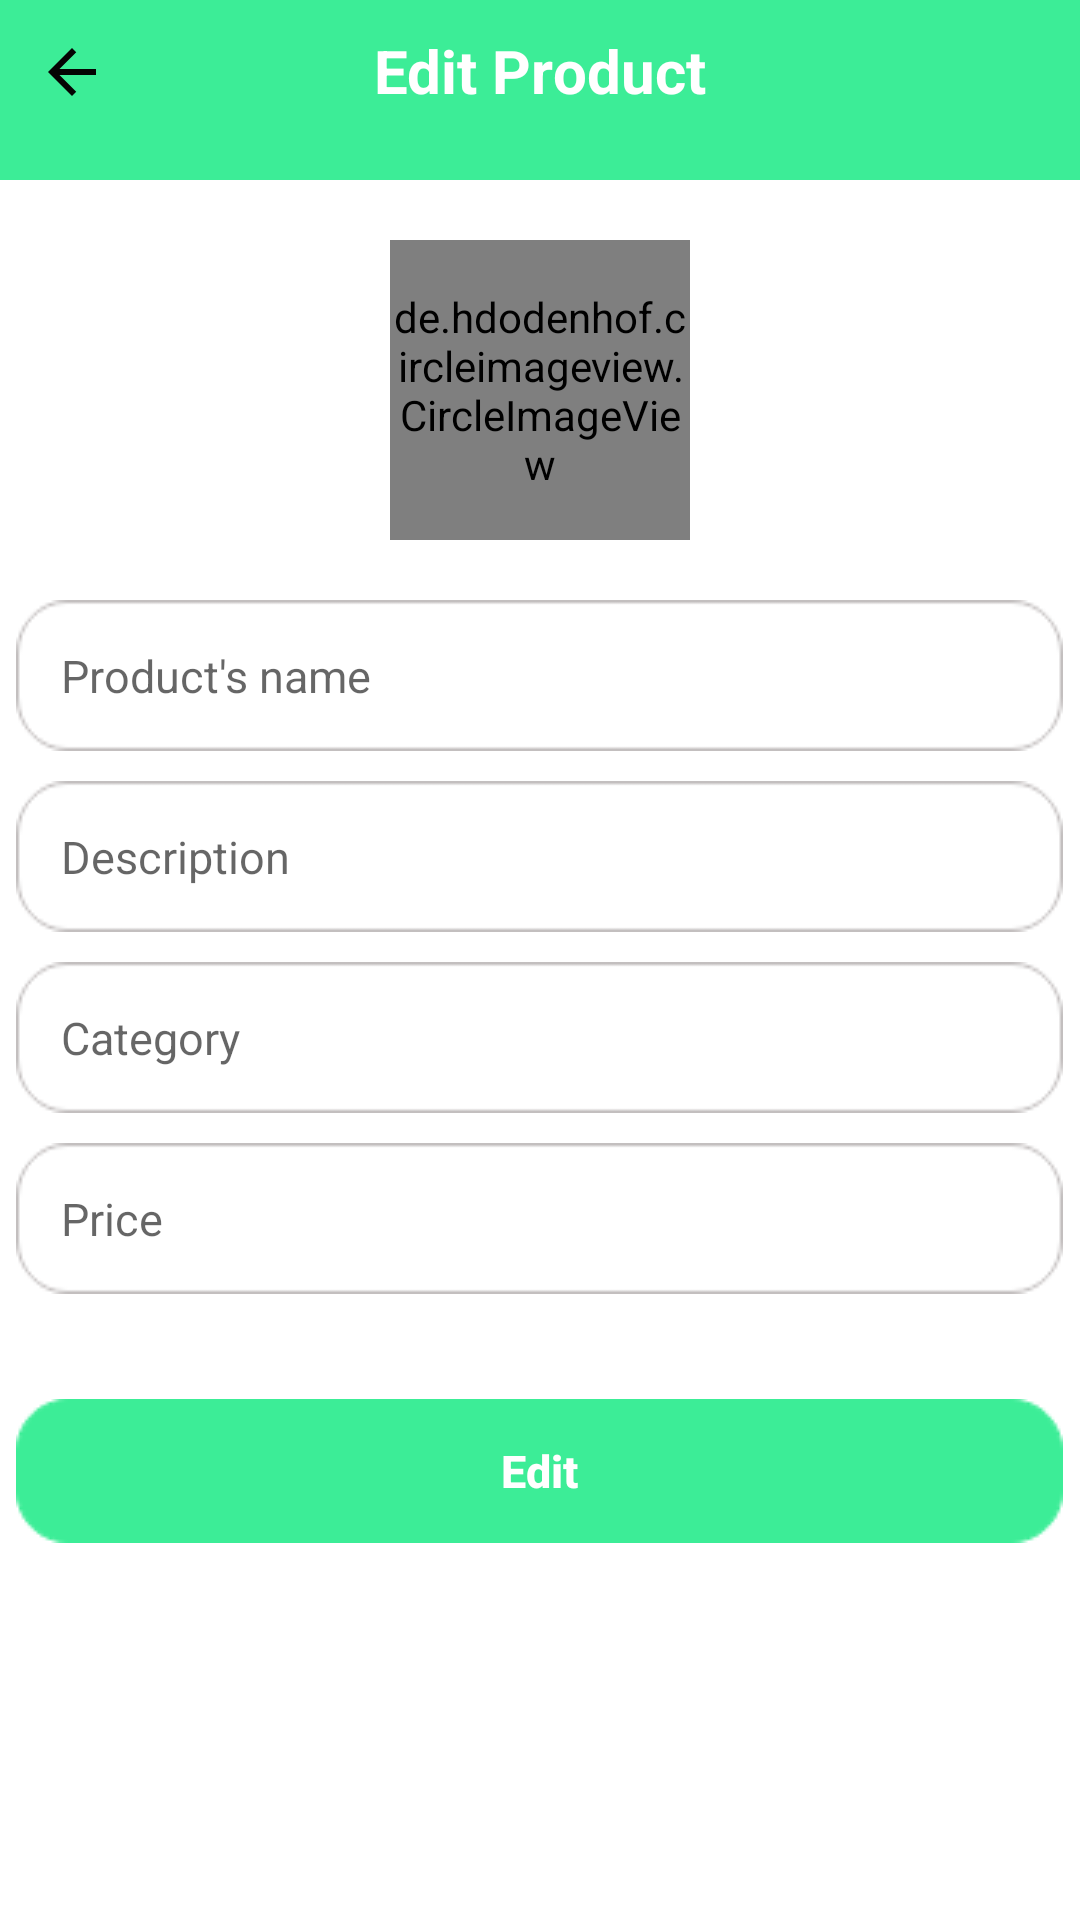

Icon bounding boxes for this 1080×1920 phone screenshot, format (left=x1, top=y1, right=x2, bottom=y2):
tombol kembali: (left=48, top=48, right=96, bottom=96)
